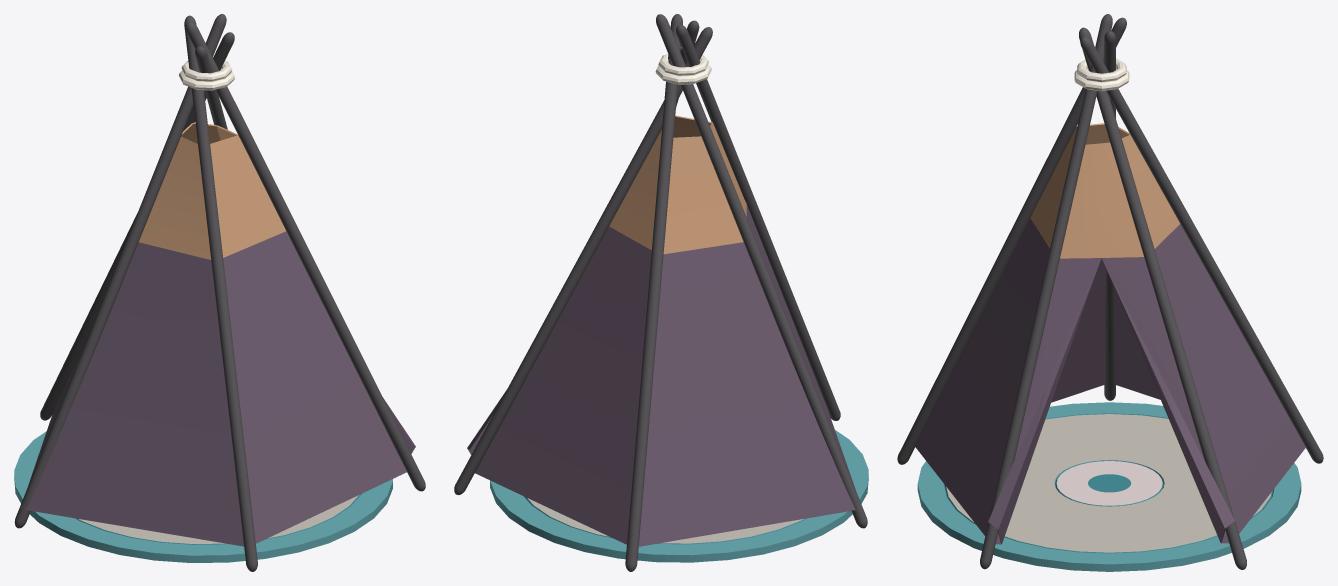
Rendered from Furn3_playzone_color3_joined.fbx.
The picture shows the model from 3 angles, left to right: view 1: azimuth 30°, elevation 25°; view 2: azimuth 150°, elevation 25°; view 3: azimuth 270°, elevation 25°; orthographic projection.
Parts seen in each view (by area): view 1: Цилиндр.042; view 2: Цилиндр.042; view 3: Цилиндр.042.
Boxes of the visible parts, <box> form: Цилиндр.042: <box>14,14,425,571</box>; Цилиндр.042: <box>454,14,868,571</box>; Цилиндр.042: <box>897,14,1323,571</box>.
Bounding box in the file's own units: 328 × 416 × 340.
